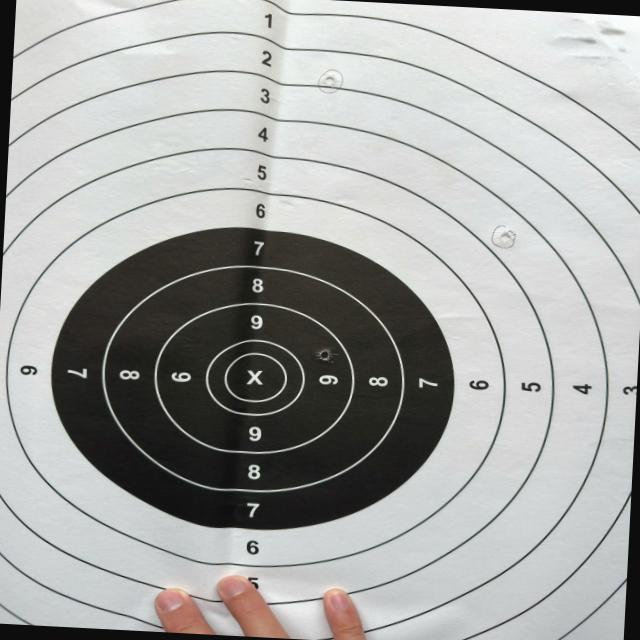bullet: (501, 230, 516, 245), (325, 72, 337, 87), (319, 348, 330, 360)
target: (0, 0, 640, 640)
